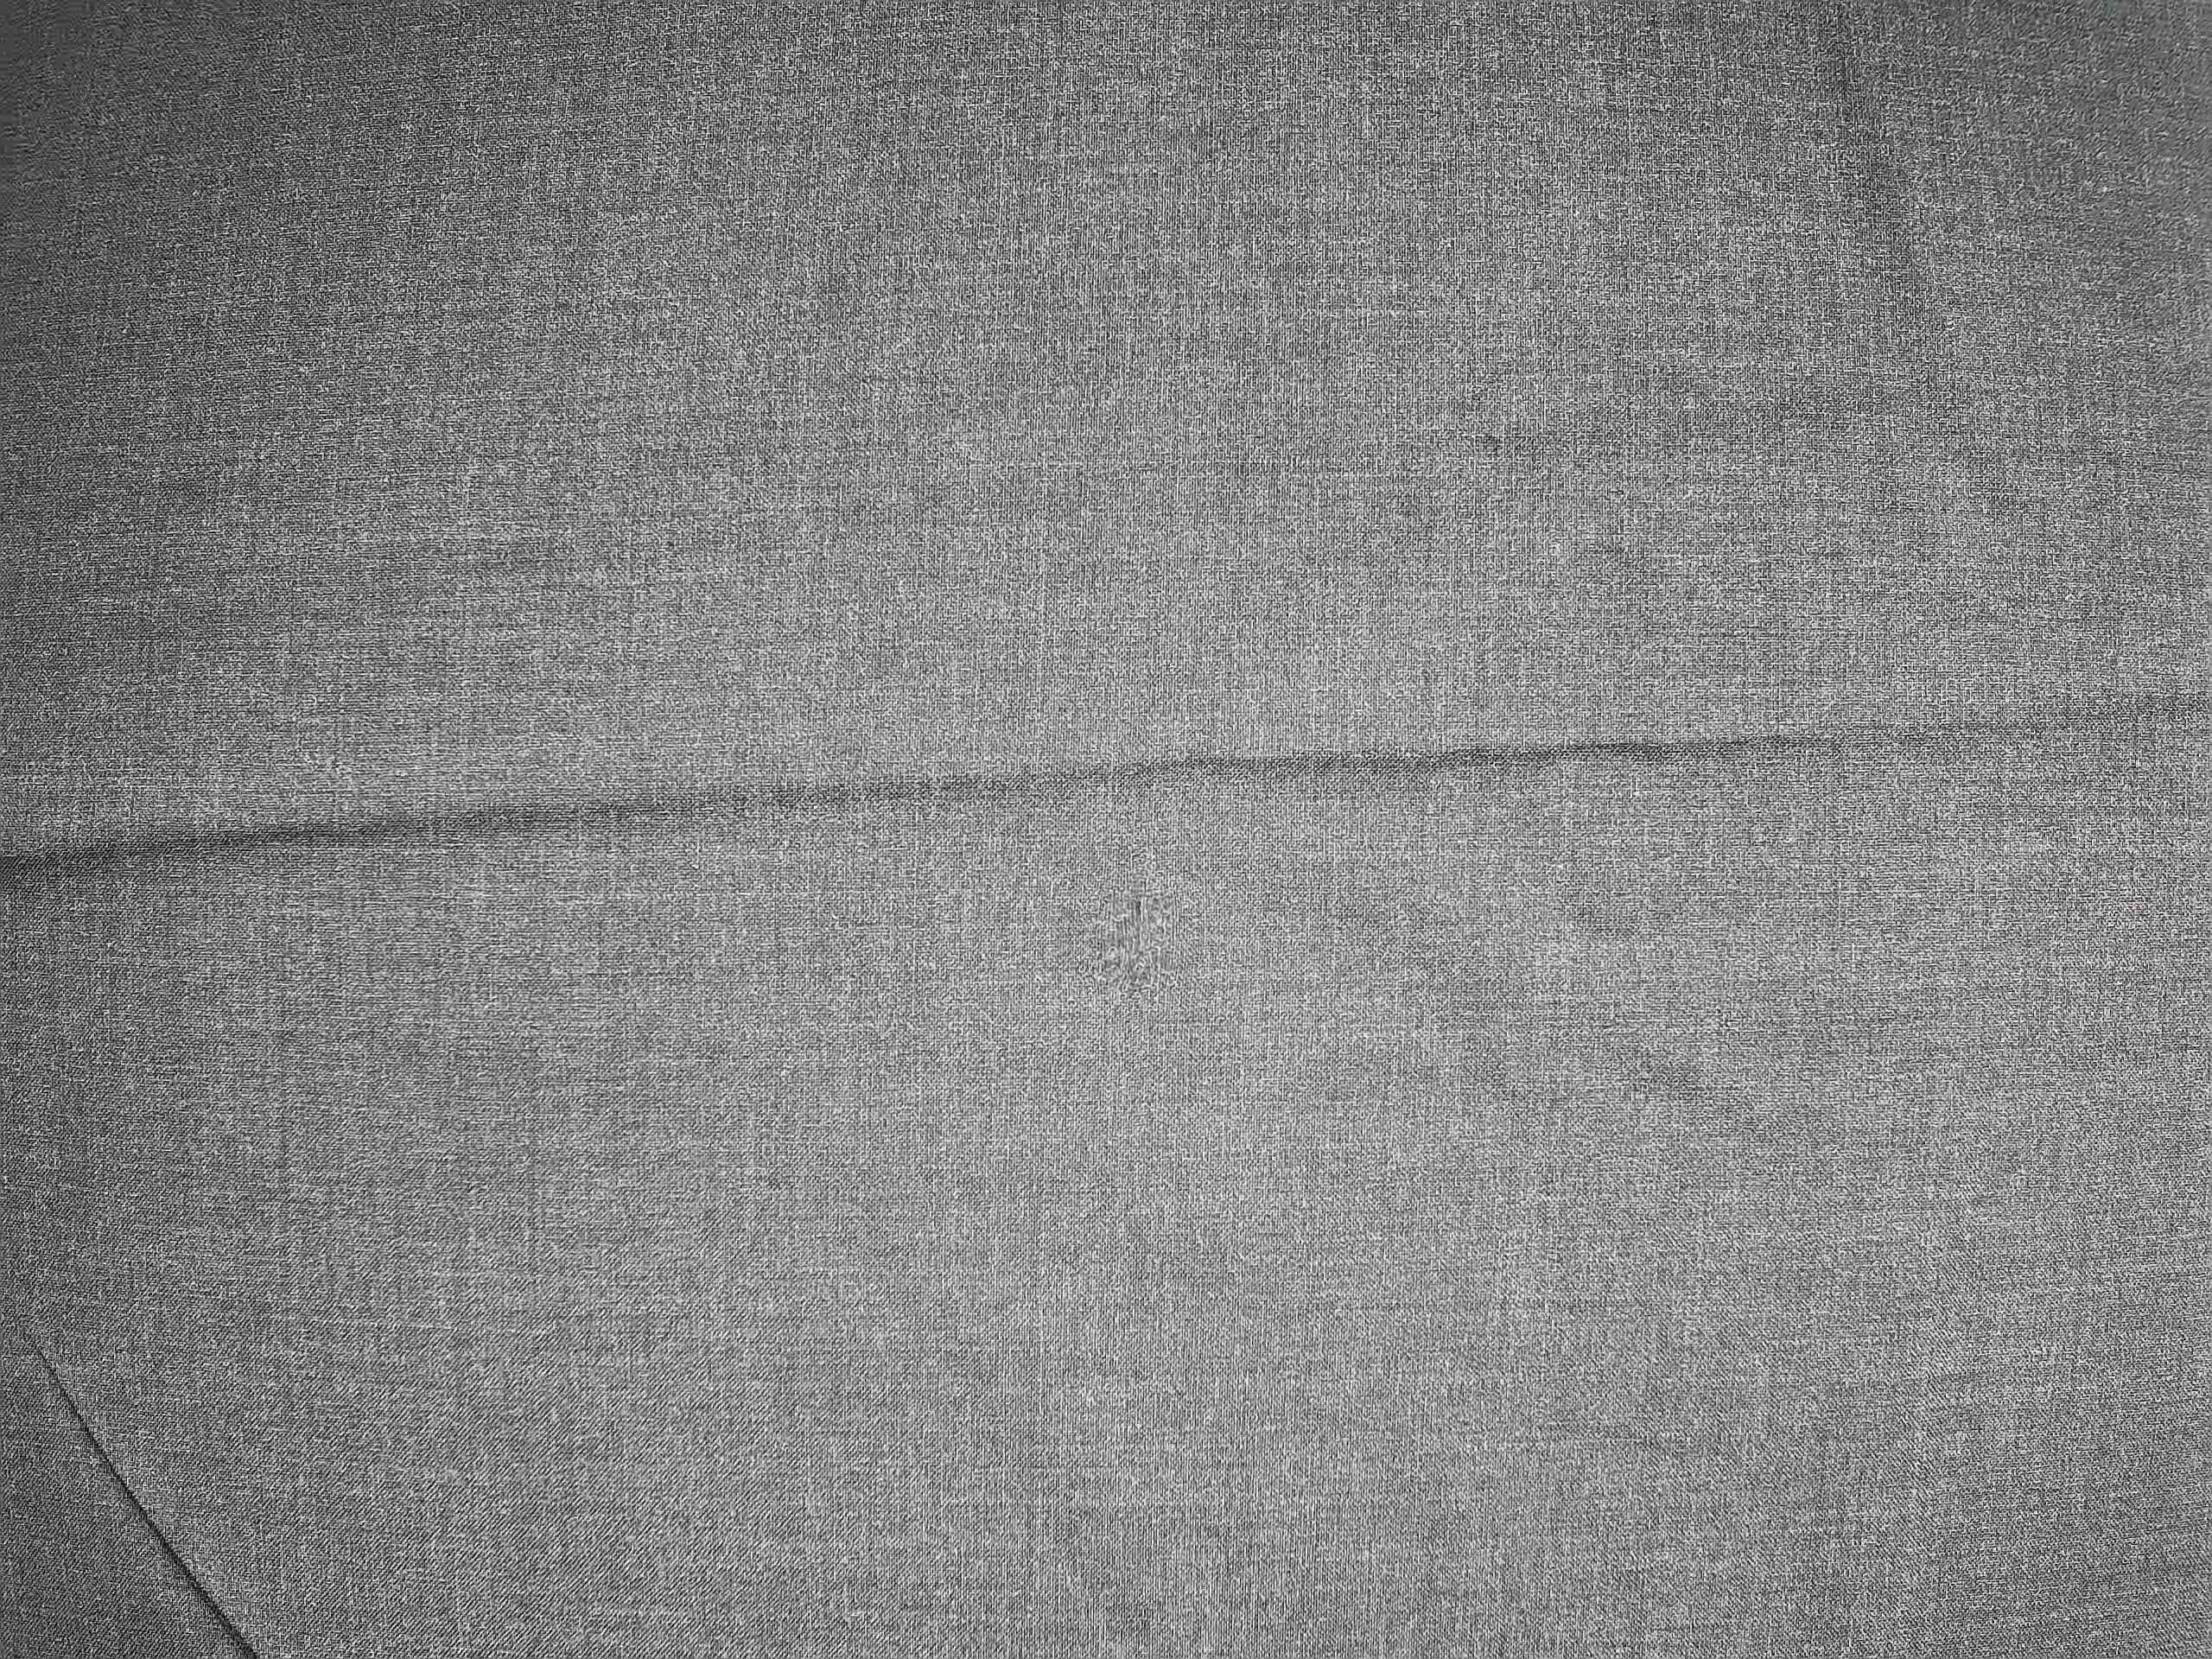rubbing-hole: (1078, 871, 1198, 1016)
